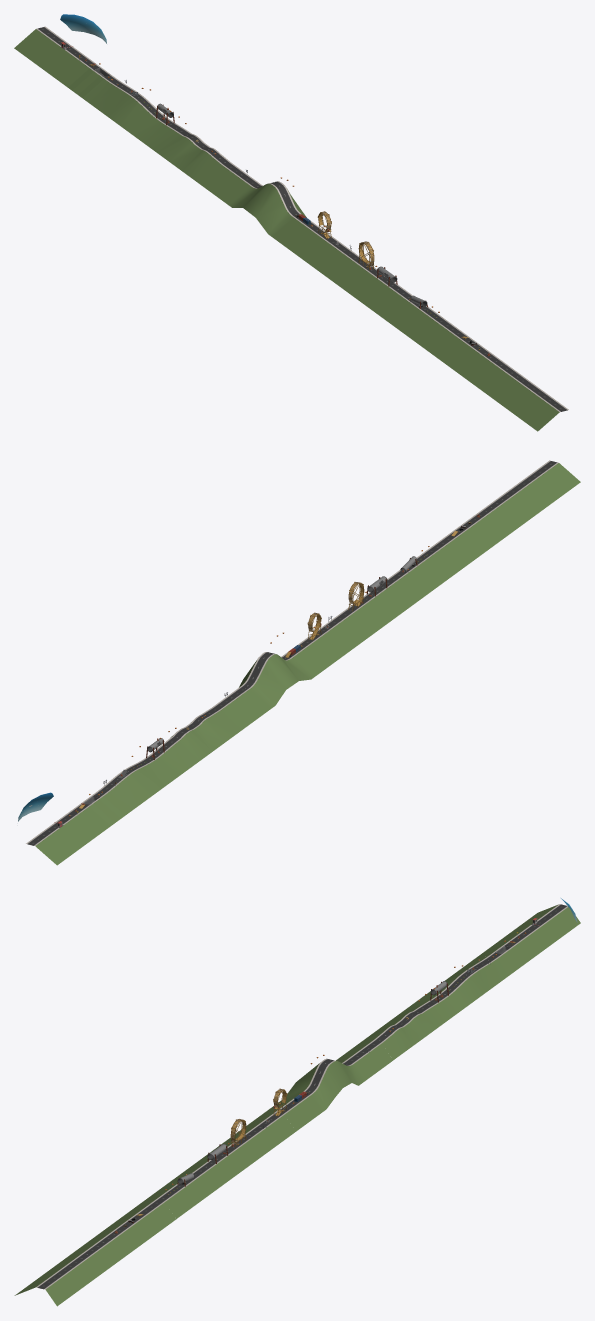
Rendered from level_event_6.glb.
3 views of the same model, one above another, from view 1: azimuth 30°, elevation 25°; view 2: azimuth 150°, elevation 25°; view 3: azimuth 330°, elevation 25° (orthographic).
Visible parts, largest first — view 1: road_easy_13, road_easy_00 (1), road_easy_00, road_mountain_angle_55, road_easy_00_small_1 (2), road_easy_00_small_1 (1), road_easy_00_small_1, road_easy_00_small_1 (3), SkyDome; view 2: road_easy_13, road_easy_00 (1), road_easy_00, road_mountain_angle_55, road_easy_00_small_1 (2), road_easy_00_small_1, road_easy_00_small_1 (1), road_easy_00_small_1 (3); view 3: road_easy_00 (1), road_easy_13, road_easy_00, road_mountain_angle_55, road_easy_00_small_1 (1), road_easy_00_small_1, road_easy_00_small_1 (2), road_easy_00_small_1 (3).
Part boxes in pixels (x1,y1,x2,y2): road_easy_13: [82, 76, 232, 185]; road_easy_00 (1): [418, 322, 568, 431]; road_easy_00: [299, 235, 449, 343]; road_mountain_angle_55: [229, 181, 306, 236]; road_easy_00_small_1 (2): [202, 164, 259, 205]; road_easy_00_small_1 (1): [41, 46, 98, 87]; road_easy_00_small_1: [14, 26, 71, 67]; road_easy_00_small_1 (3): [272, 217, 329, 256]; SkyDome: [60, 14, 106, 43]; road_easy_13: [94, 706, 244, 815]; road_easy_00 (1): [430, 460, 580, 569]; road_easy_00: [311, 548, 461, 656]; road_mountain_angle_55: [239, 652, 314, 708]; road_easy_00_small_1 (2): [213, 687, 271, 727]; road_easy_00_small_1: [26, 824, 83, 865]; road_easy_00_small_1 (1): [53, 804, 110, 845]; road_easy_00_small_1 (3): [284, 635, 341, 676]; road_easy_00 (1): [14, 1200, 176, 1306]; road_easy_13: [351, 954, 512, 1060]; road_easy_00: [134, 1112, 295, 1218]; road_mountain_angle_55: [286, 1058, 365, 1111]; road_easy_00_small_1 (1): [484, 924, 553, 962]; road_easy_00_small_1: [512, 904, 580, 942]; road_easy_00_small_1 (2): [336, 1041, 392, 1079]; road_easy_00_small_1 (3): [253, 1093, 322, 1131].
Bounding box in the file's own units: 58.1 × 38.7 × 856.
Materials: 3 (3 with a texture image).
